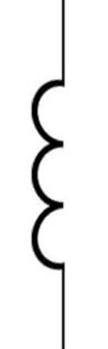inductor: (17, 62, 87, 285)
